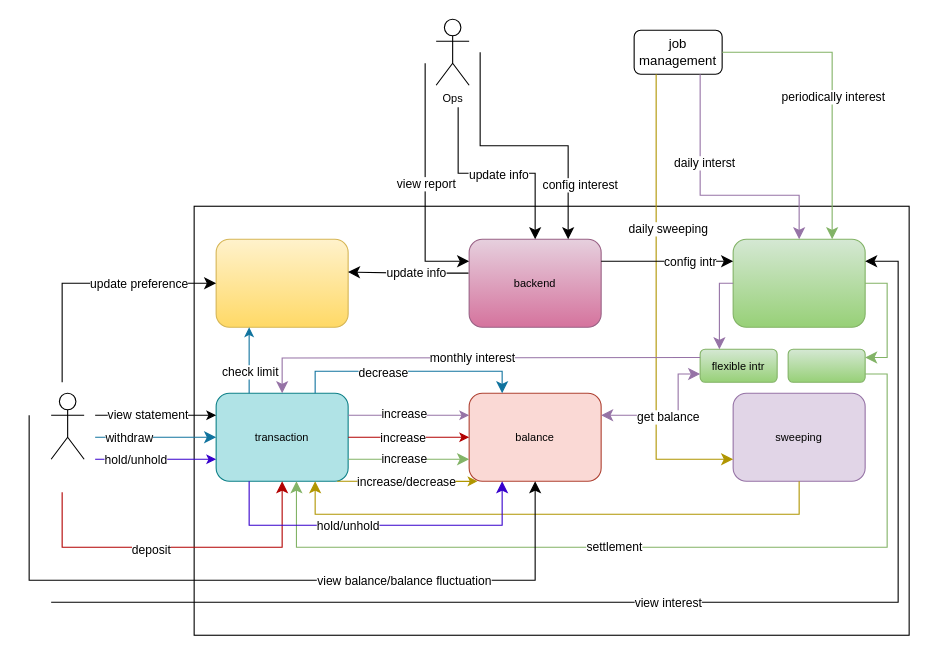
The diagram is 928 pixels wide and 655 high, and some of its shapes have lost their labels. The box of each missing label's shape, as (x1, y1, x2, y2) in pixels:
customer info: (215, 238, 348, 327)
fixed intr: (787, 348, 865, 382)
interest: (732, 238, 865, 327)
User: (50, 392, 84, 459)
